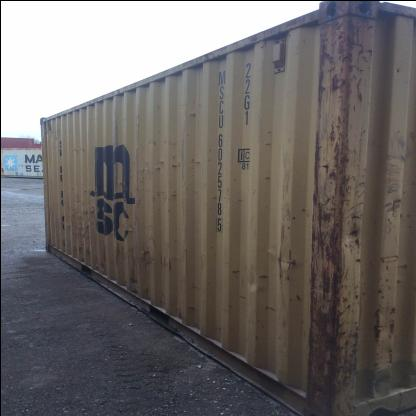Damage: (306, 23, 368, 411), (126, 140, 213, 210), (62, 192, 122, 268), (374, 253, 404, 402), (134, 234, 209, 281), (254, 127, 298, 203), (377, 128, 406, 240), (270, 210, 302, 303), (107, 113, 123, 202), (176, 296, 206, 326), (182, 96, 209, 121), (249, 268, 270, 300), (124, 282, 152, 297), (132, 112, 147, 138), (224, 261, 242, 275), (62, 142, 85, 152), (40, 119, 58, 130)
